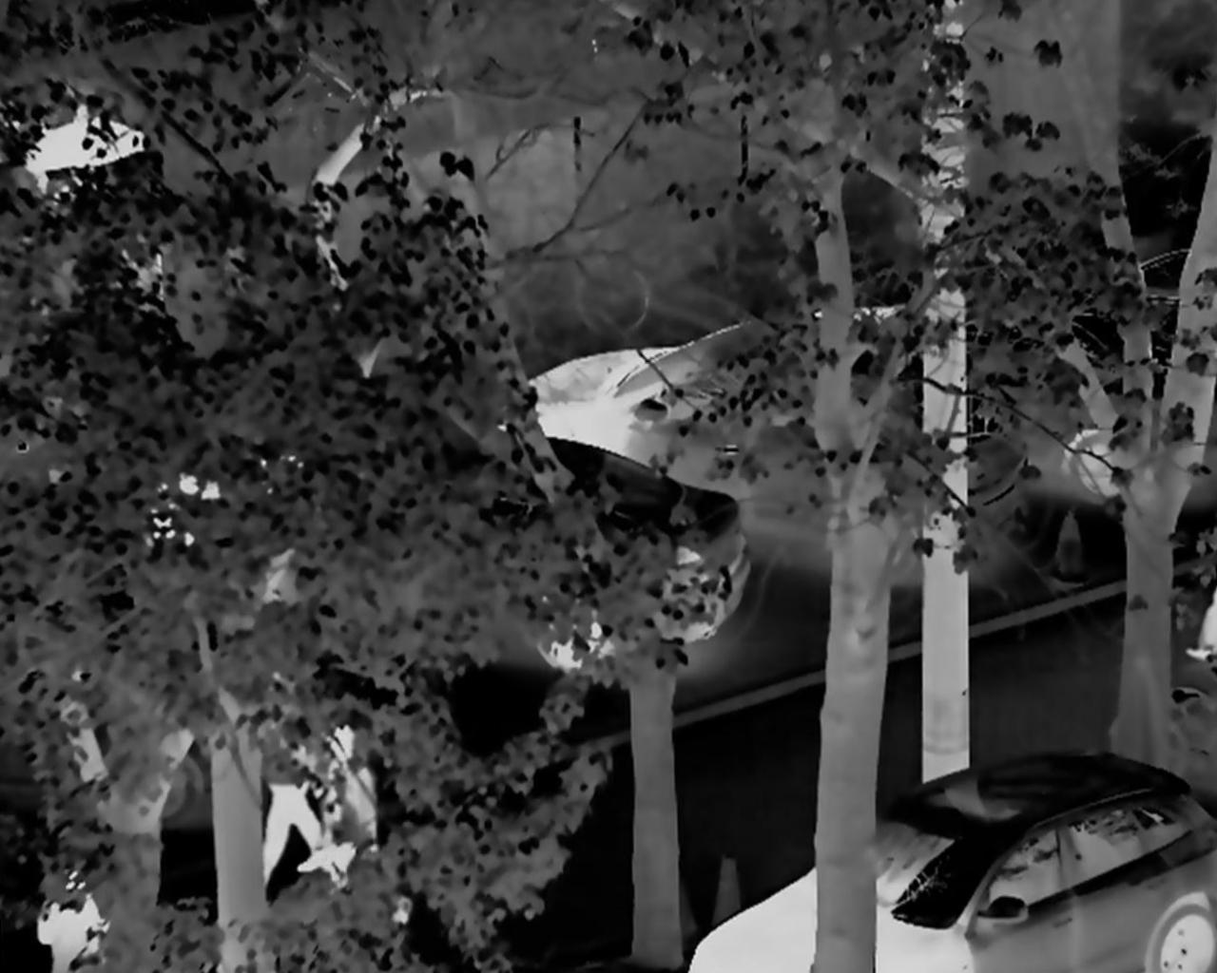person: (323, 720, 387, 898), (263, 735, 326, 881)
